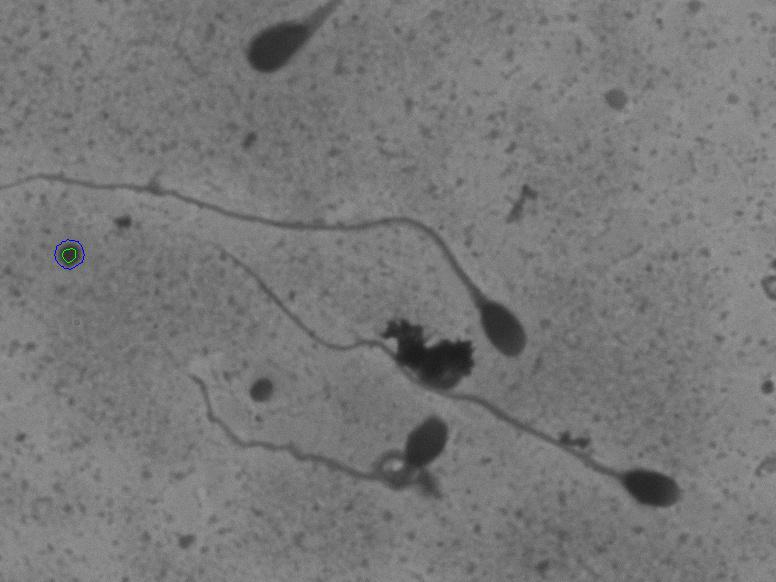Abnormal: (214, 412, 448, 504)
Normal: (195, 241, 692, 521), (23, 160, 560, 373)
